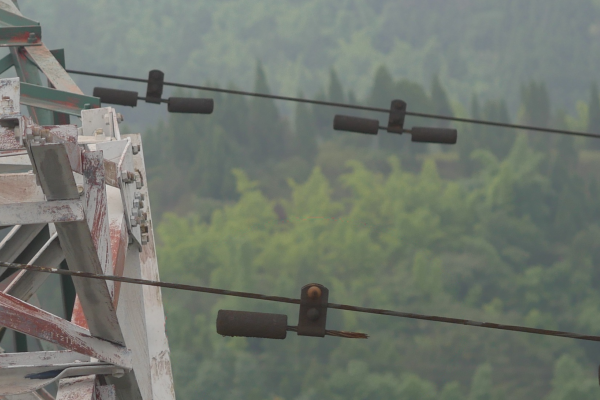damper: (92, 66, 216, 117)
damper_defect: (213, 279, 373, 344), (331, 97, 461, 145)
